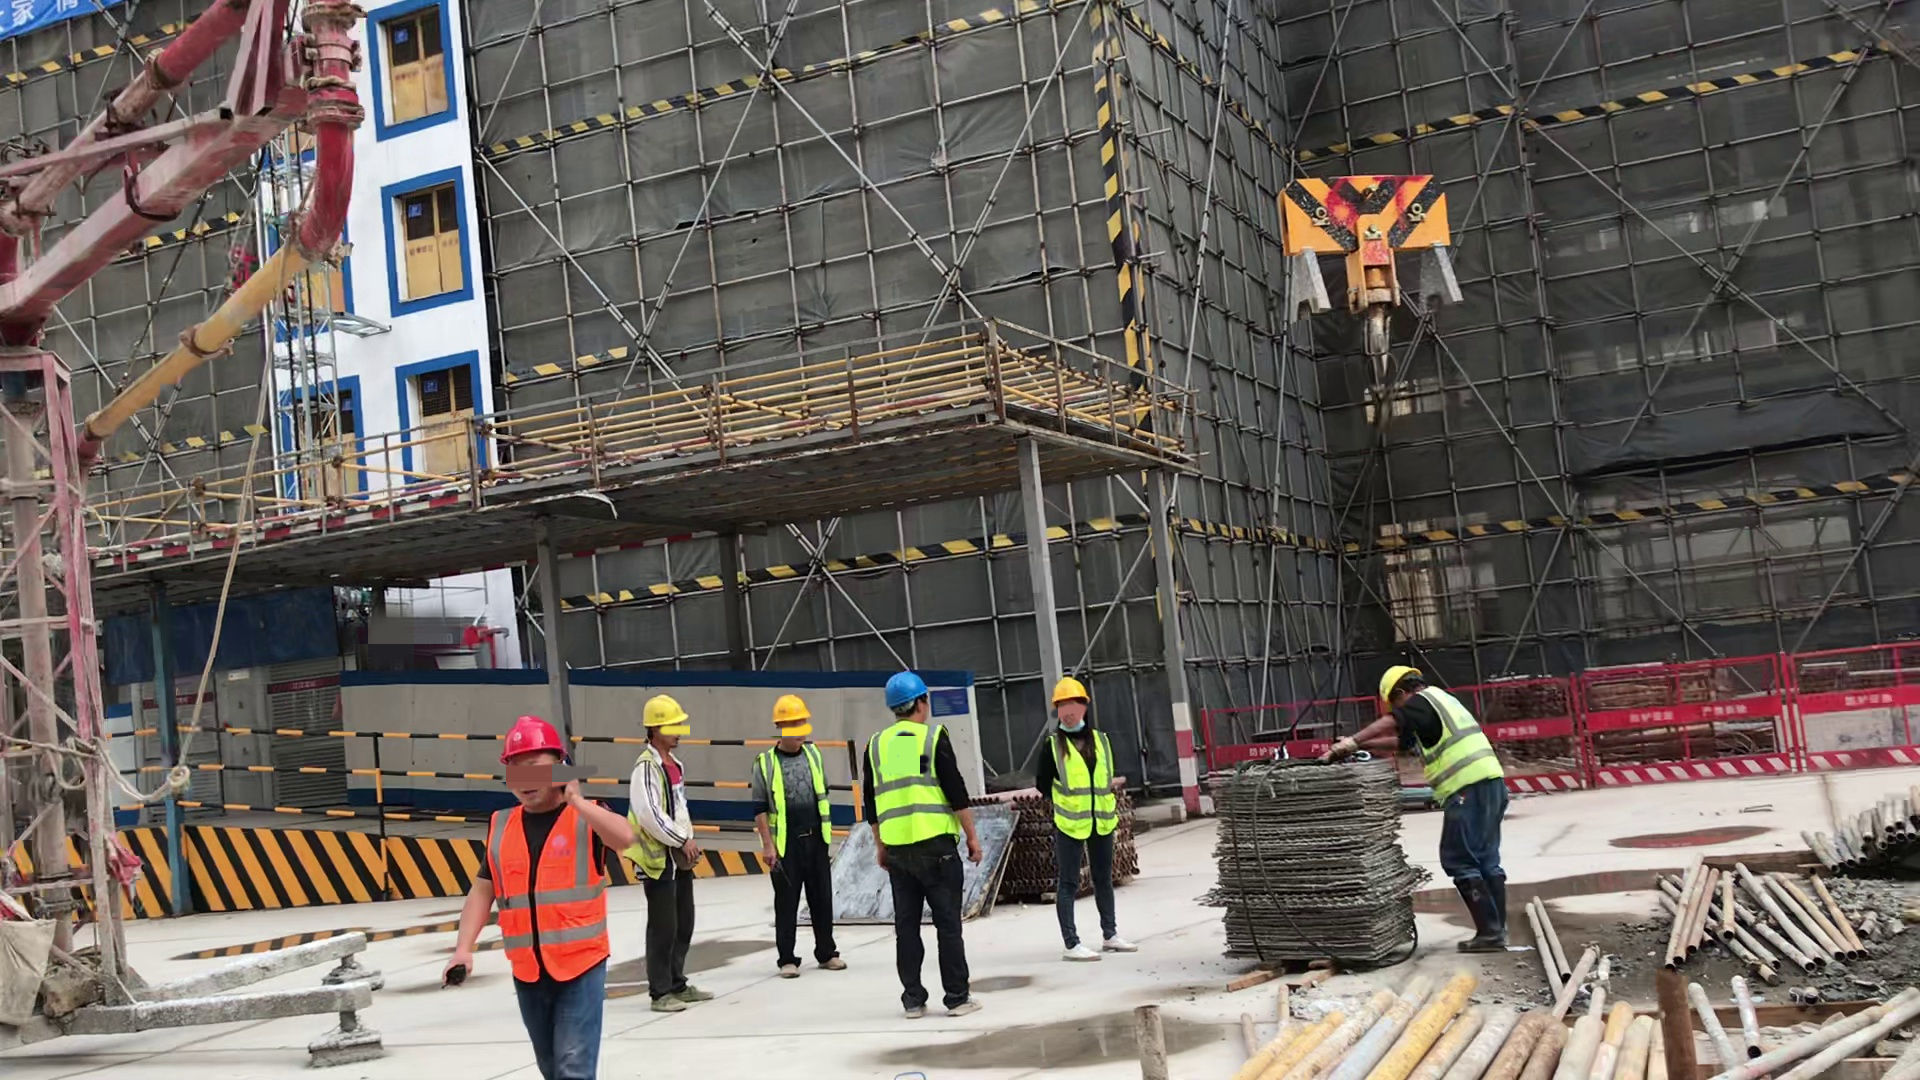fence: (1494, 642, 1920, 793)
helmet: (502, 718, 568, 758), (884, 672, 929, 707), (641, 698, 689, 726), (1380, 667, 1421, 699), (772, 695, 809, 724), (1052, 676, 1089, 706)
hook: (1274, 174, 1466, 368)
person: (483, 718, 629, 1080), (869, 673, 982, 1018), (1377, 670, 1505, 954), (635, 697, 717, 1015), (755, 695, 847, 979), (1039, 677, 1128, 958)
scaffold: (1189, 984, 1702, 1080), (989, 789, 1059, 906)
slogan: (1, 3, 129, 31)
vest: (492, 804, 609, 985), (870, 723, 958, 847), (1408, 683, 1500, 799), (1046, 727, 1124, 835), (763, 745, 831, 851)
